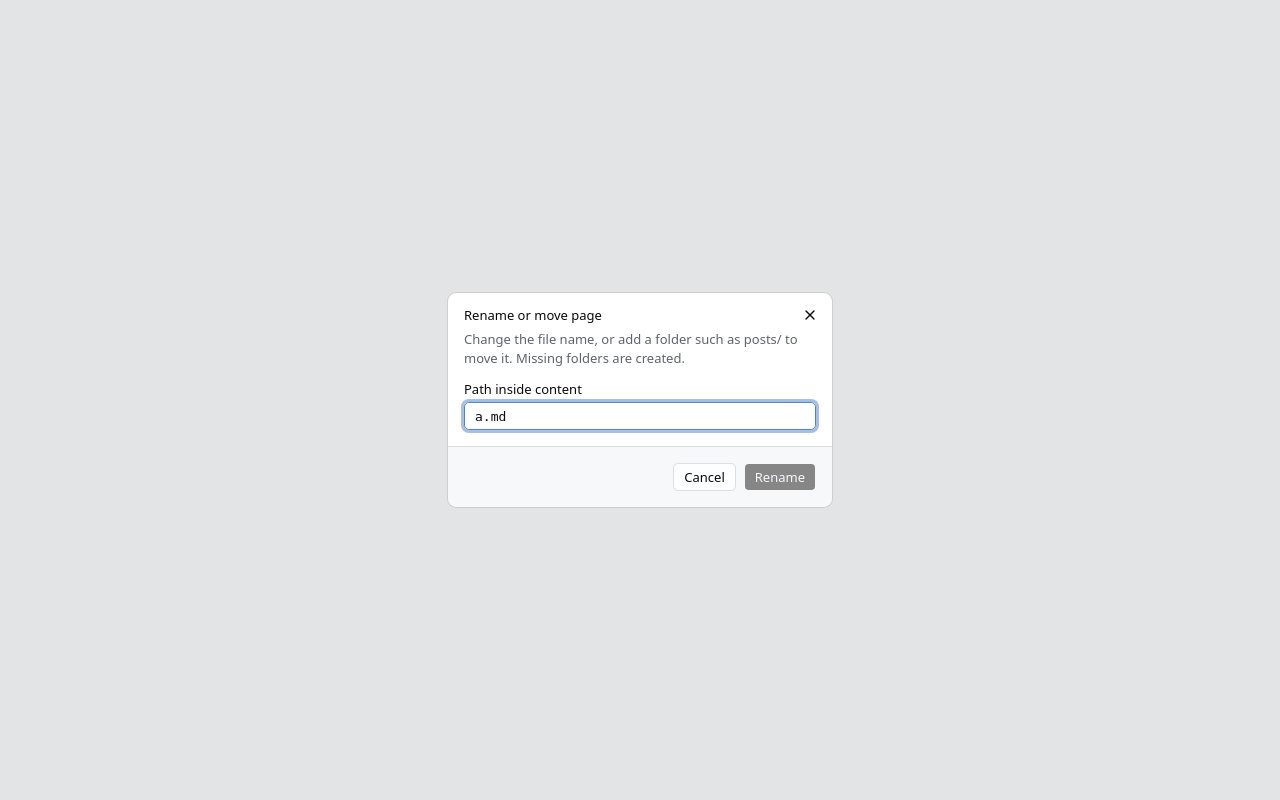
Test: RenamePageDialog › shows the backend message and stays open on refusal
Step 1. Type "x" into the field labelled "Path inside content" → (640, 416), box [464,402,816,430]
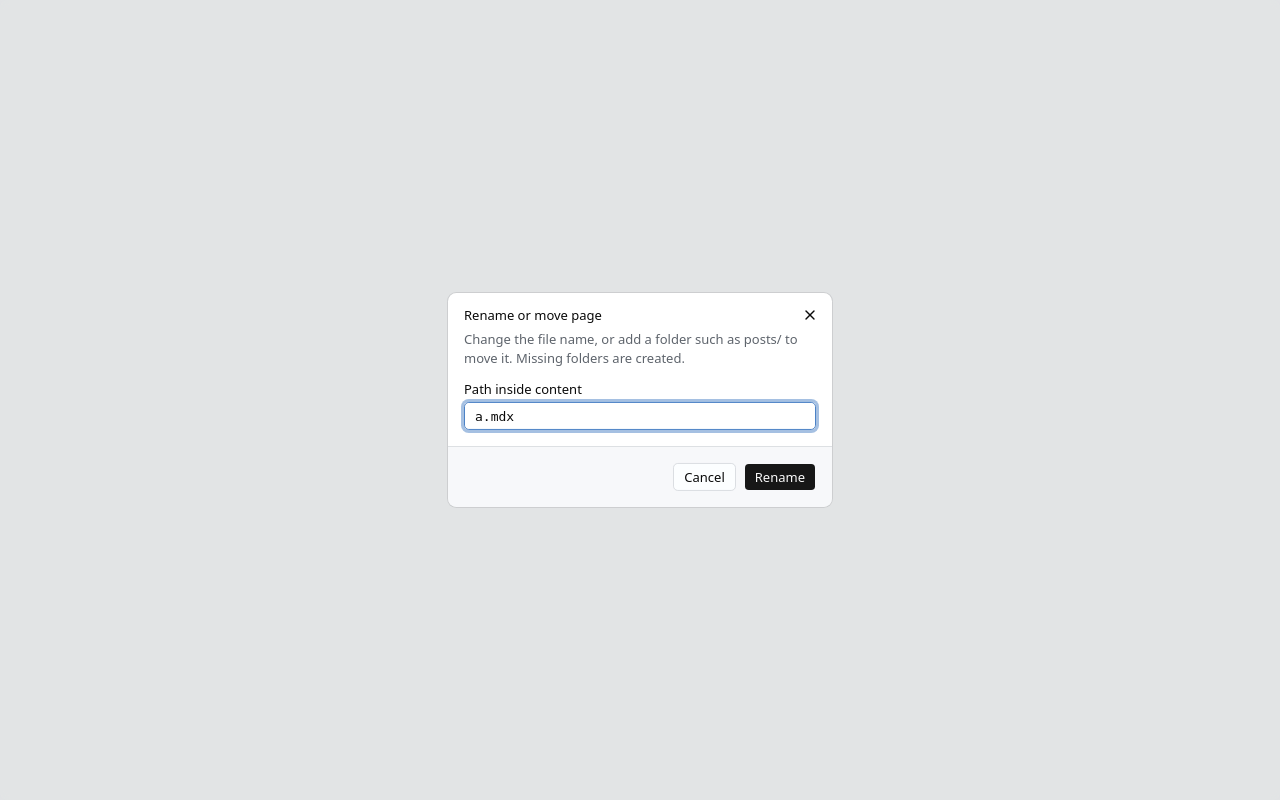
Step 2. Click the button "Rename" → (780, 477), box [744,463,816,491]
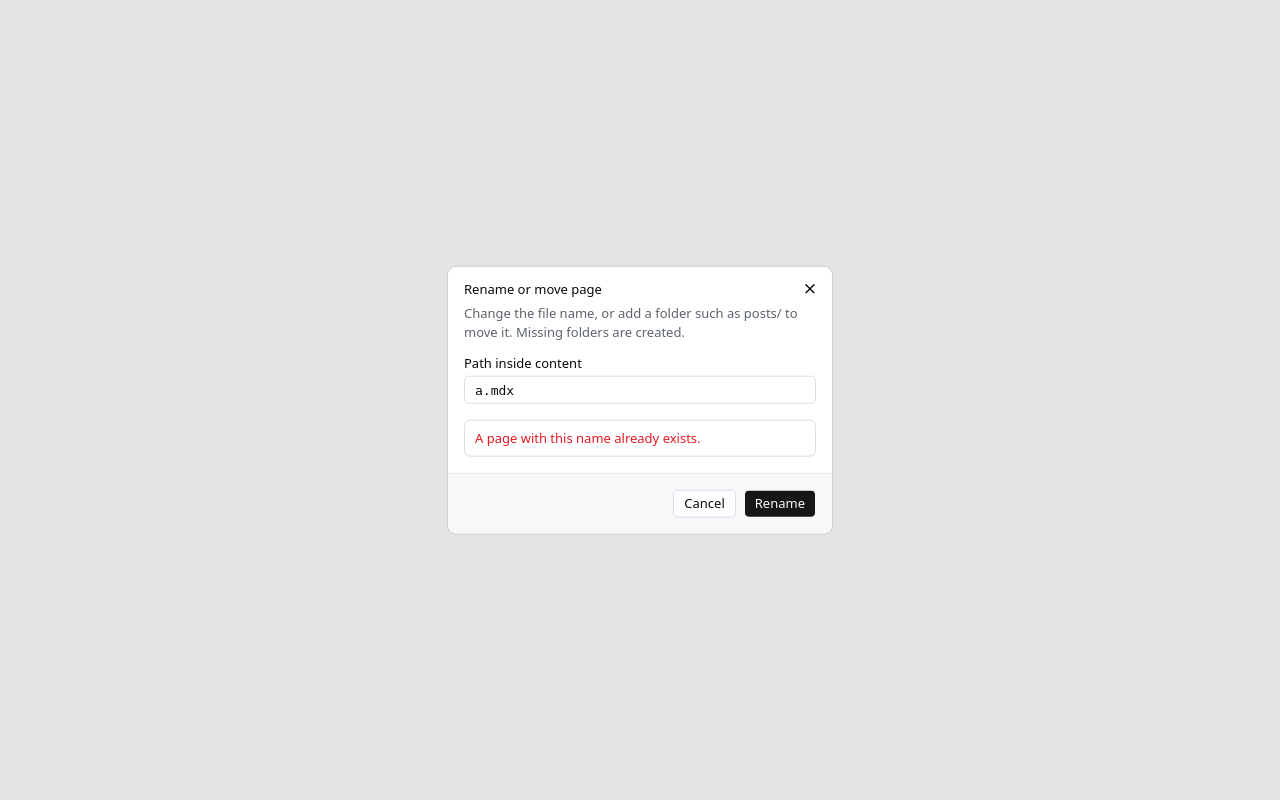
Expected: the message shows "already exists", [475,429,701,447]
